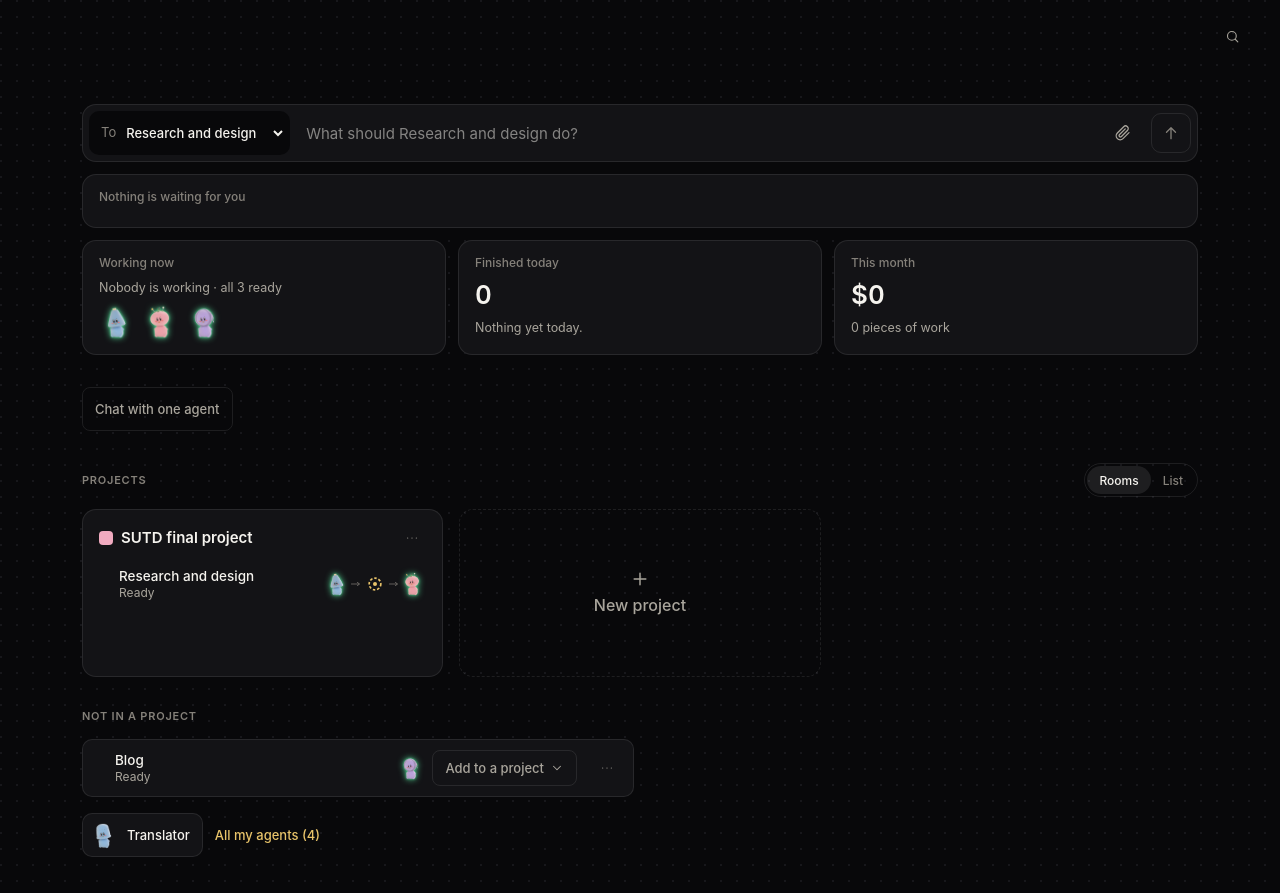
Home, the studio (ADR 0097) › says a team changed just now when a move finds it changed, in words for Home, not for a save
Click the button with aria-label "Add to a project: Weekly posts". click: coordinates (505, 768)
box: top-left (432, 750), bottom-right (577, 786)
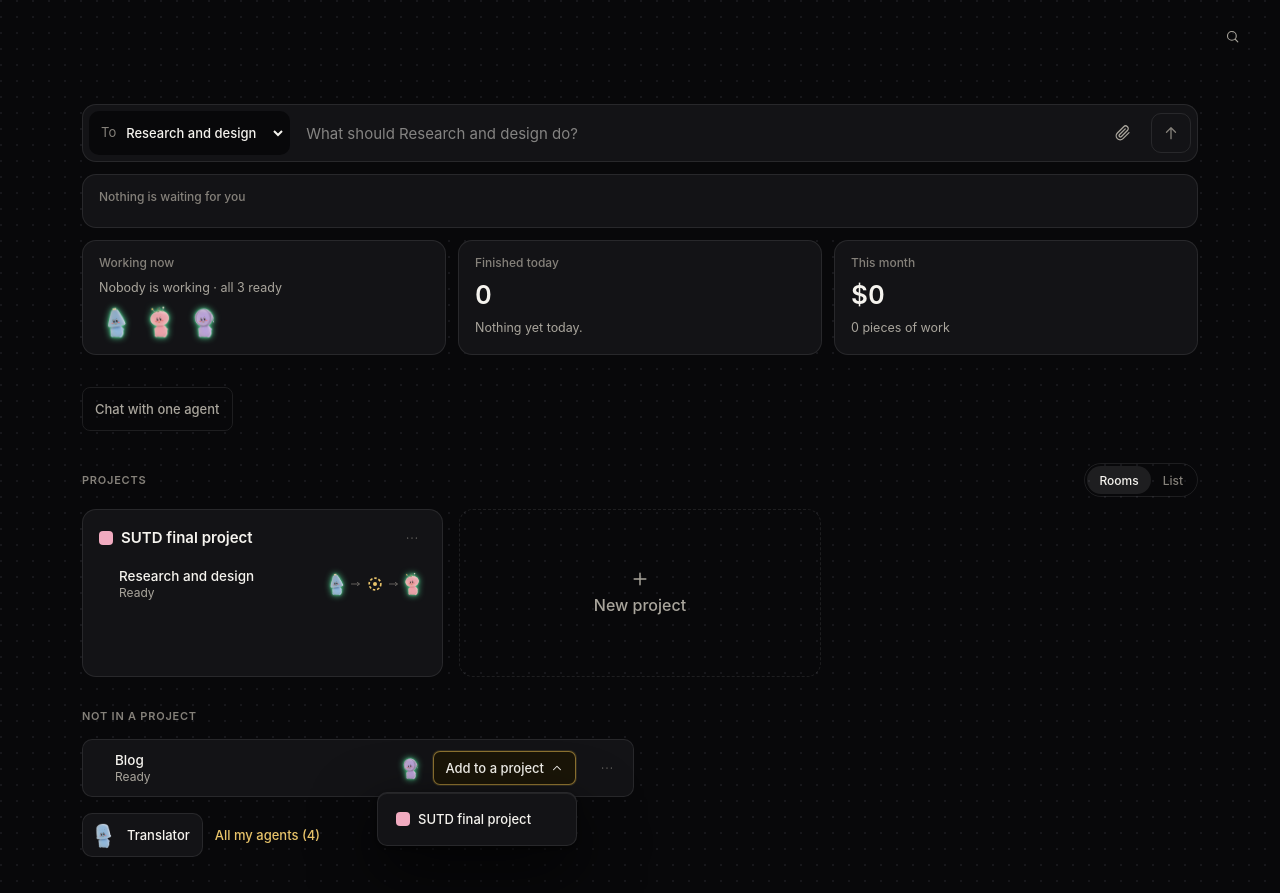
Click the menu item "SUTD final project". click: coordinates (477, 819)
box: top-left (384, 799), bottom-right (570, 839)
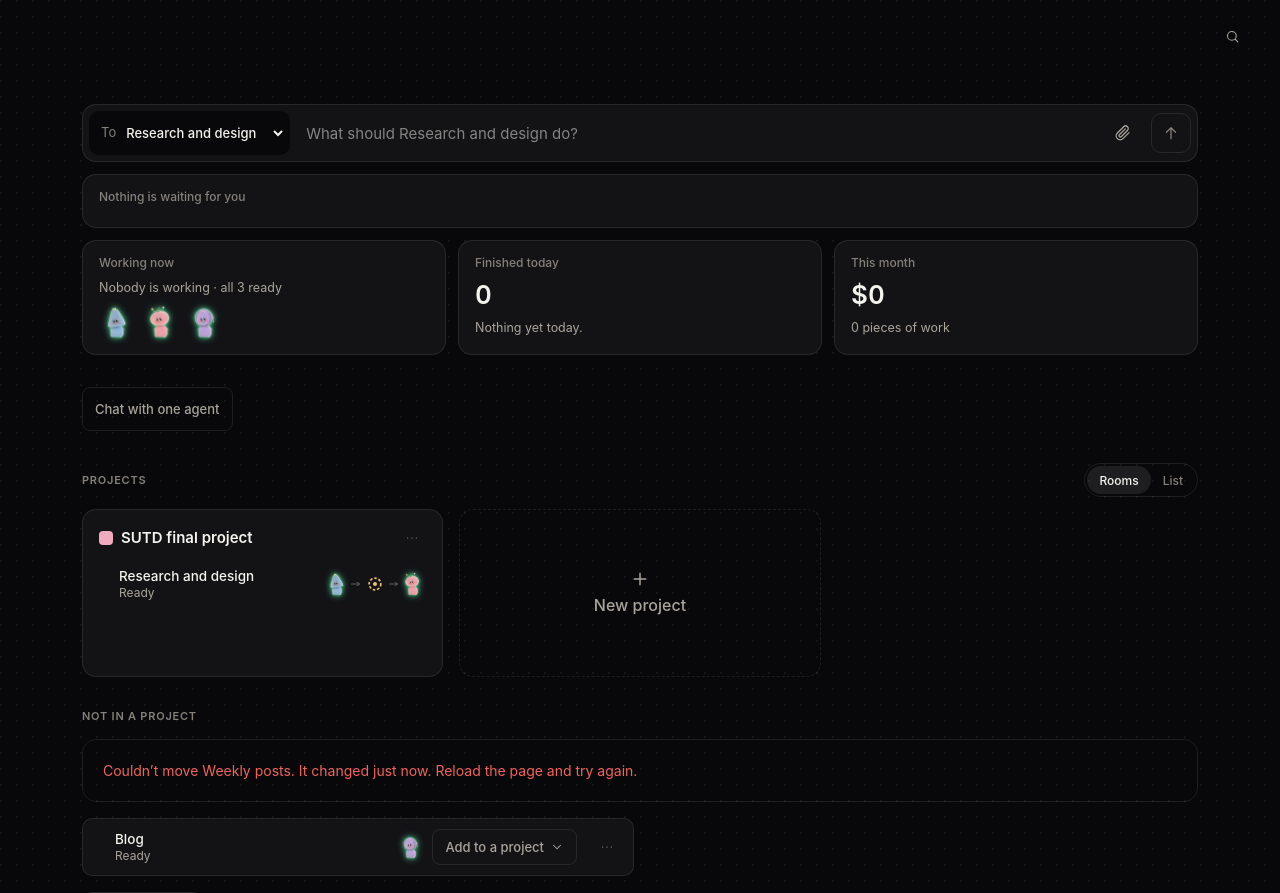
Now the text "Couldn’t move" reads "Couldn’t move Weekly posts. It changed just now. Reload the page and try again.", box top-left (82, 739), bottom-right (1198, 802)
